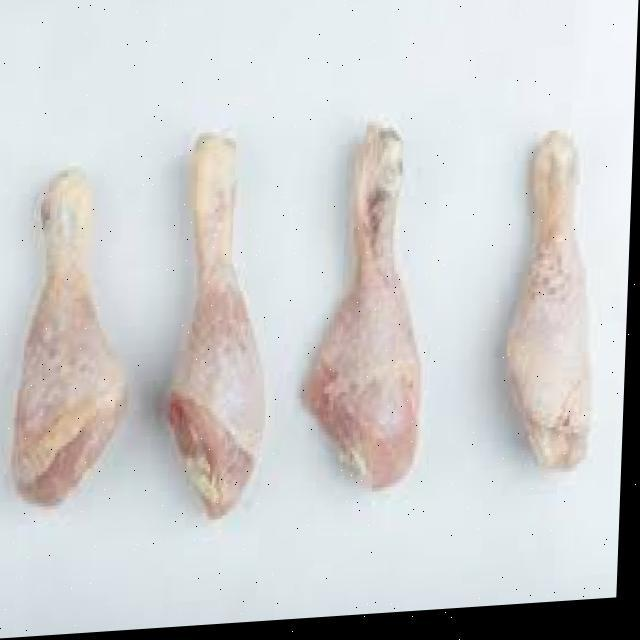leg: (157, 136, 288, 546), (12, 154, 141, 528), (312, 126, 436, 497), (498, 132, 608, 500)
